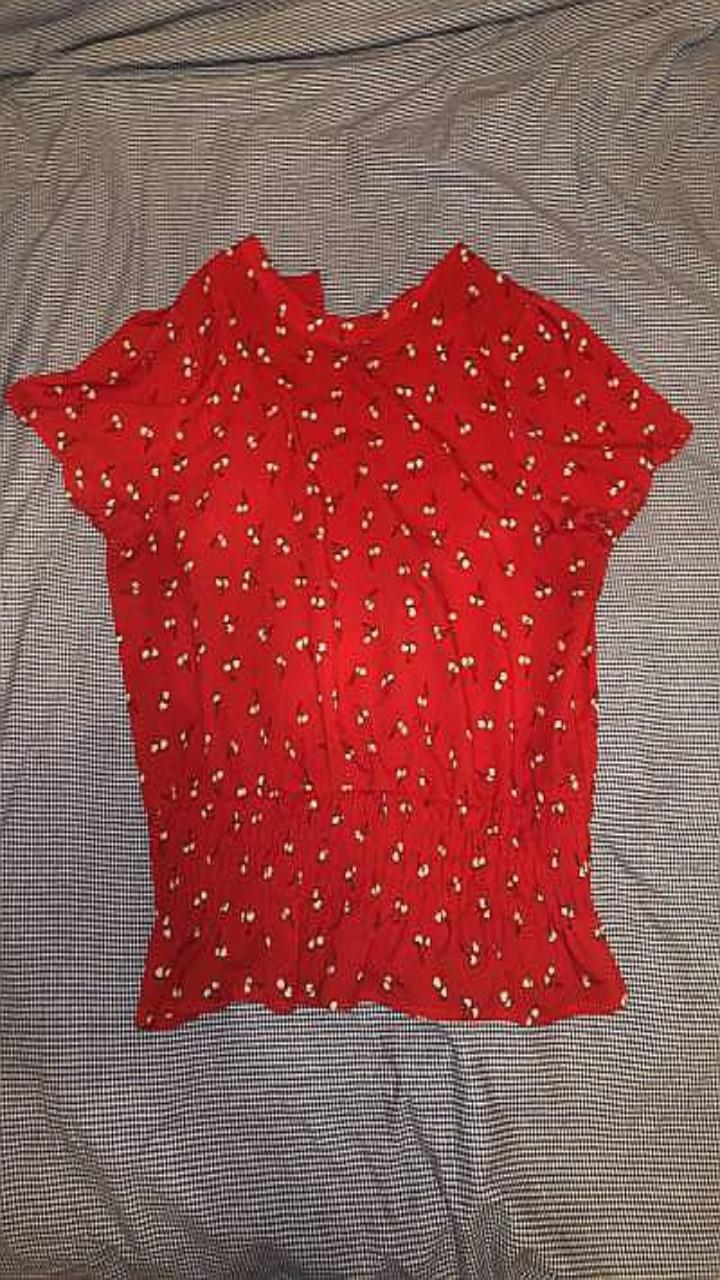T-Shirt: (6, 236, 689, 1029)
